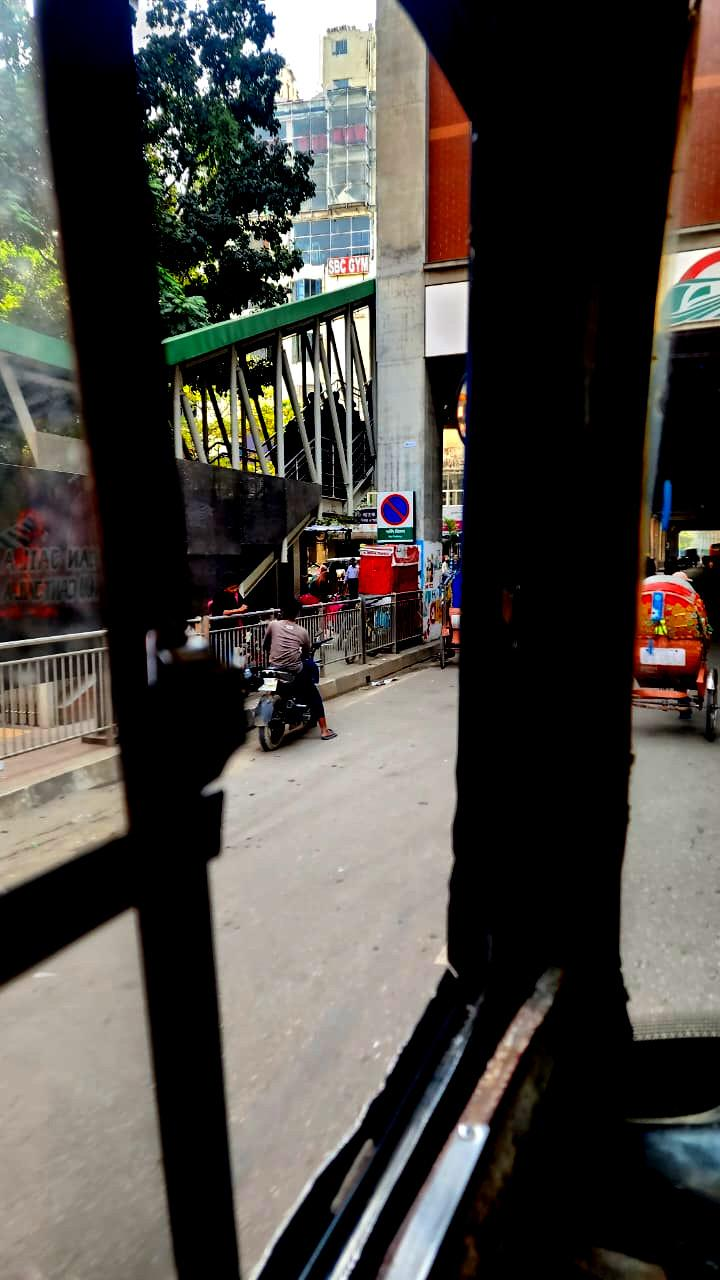No Parking: (368, 478, 418, 540)
